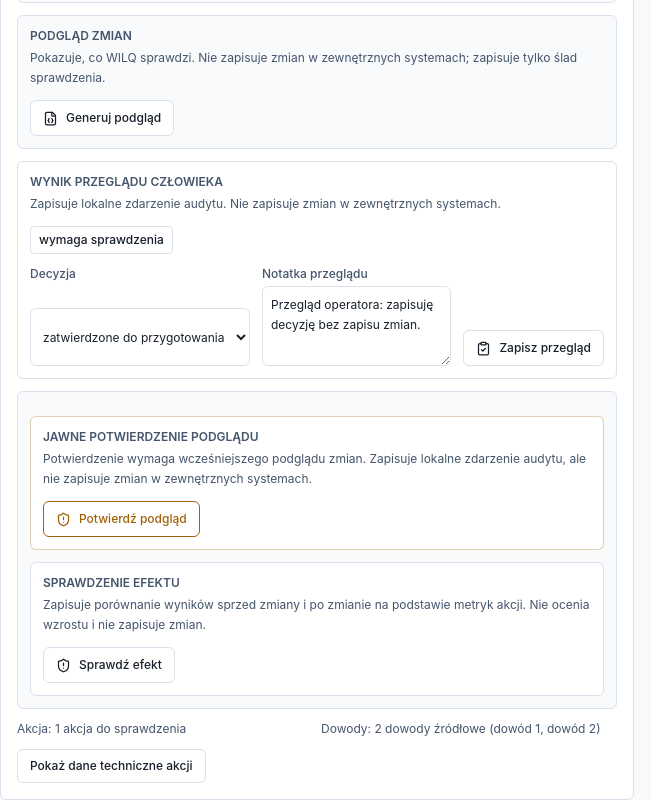
Test case: ActionPanels › uses the action evidence summary as visible proof context
The width and height of the screenshot is (651, 800).
(page scrolled)
Expected: the text "2 dowody źródłowe" is shown, [374, 721, 486, 736]
Expected: the text "Domyślnie schowany" is not shown
Click the button "Pokaż dane techniczne akcji". click: coordinates (111, 766)
box: [17, 749, 206, 783]
(page scrolled)
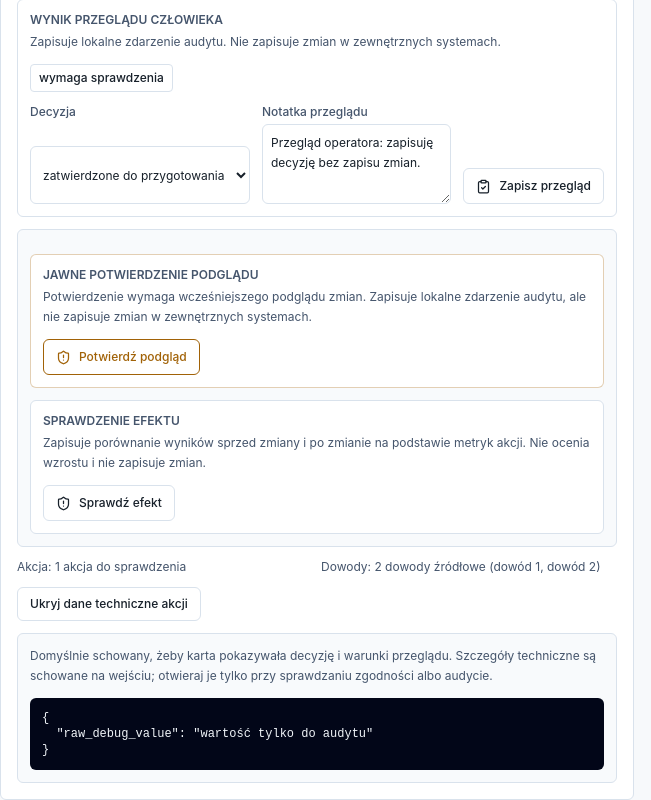
Expected: the text "Domyślnie schowany" is shown, [30, 648, 452, 663]
Expected: the text "{ \"raw_debug_value\": \"wartość tylko do audytu\" }" is shown, [30, 698, 604, 770]
